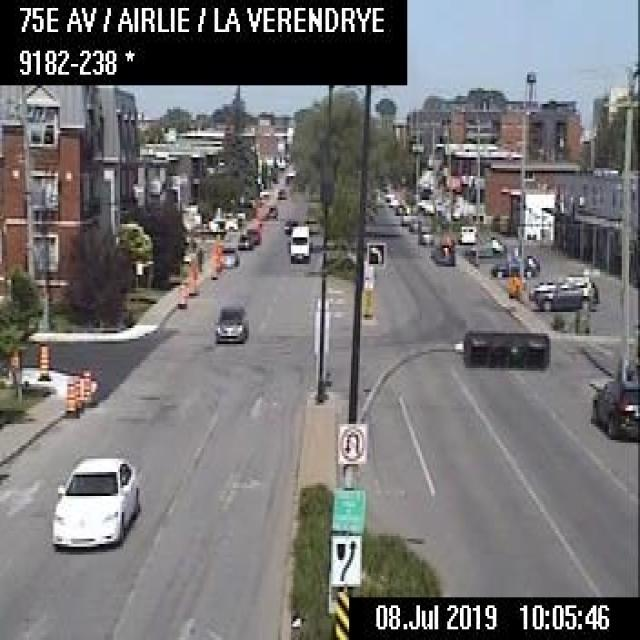construction: (505, 272, 523, 298), (62, 378, 74, 416), (36, 344, 48, 379), (79, 366, 89, 406), (188, 259, 198, 295), (71, 373, 80, 411), (176, 277, 185, 308), (9, 349, 18, 371), (209, 256, 216, 275)
vehicle: (49, 453, 138, 549), (591, 376, 638, 440), (528, 272, 598, 312), (491, 250, 540, 276), (215, 301, 247, 339), (287, 222, 308, 262), (429, 232, 453, 262), (214, 243, 236, 264), (456, 224, 476, 242), (235, 229, 252, 250), (417, 224, 435, 242), (244, 223, 258, 244), (282, 216, 298, 234), (264, 202, 279, 219), (400, 208, 415, 224), (304, 216, 318, 231), (408, 216, 422, 230), (274, 184, 285, 199)
